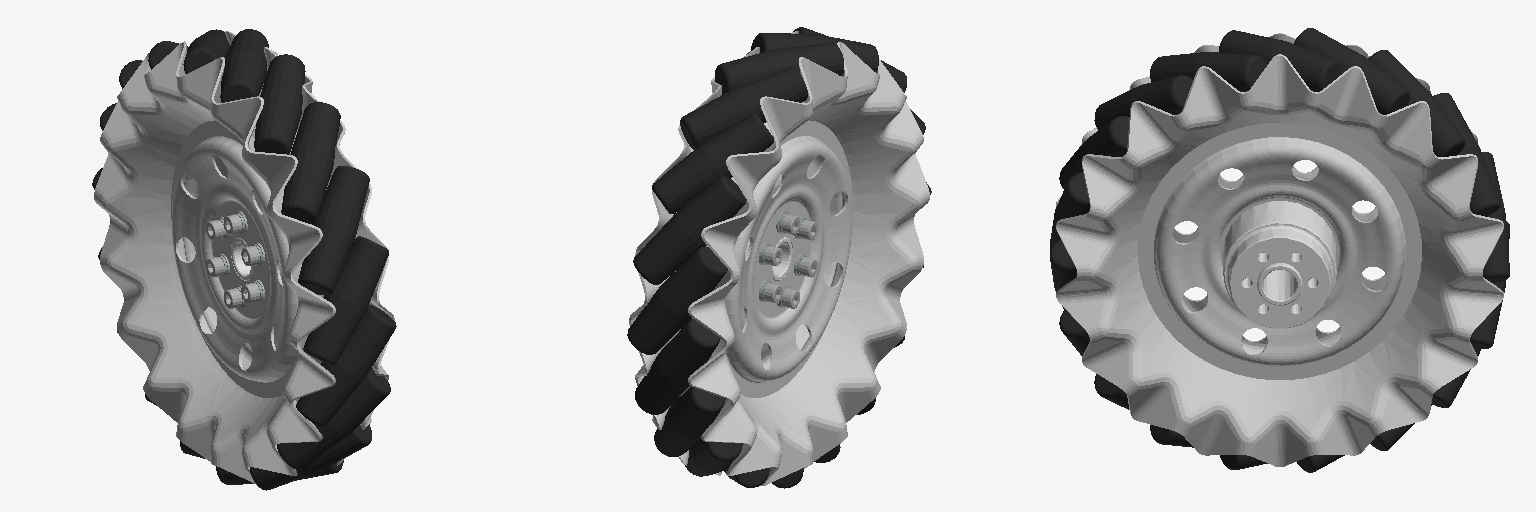
File: wheel_mecanumB.obj
3 renders of one model, left to right at view 1: azimuth 30°, elevation 25°; view 2: azimuth 150°, elevation 25°; view 3: azimuth 270°, elevation 25°, orthographic.
Parts seen in each view (by area): view 1: A003-0100-A-ADNA-R03_URDF_MecanumWheelB; view 2: A003-0100-A-ADNA-R03_URDF_MecanumWheelB; view 3: A003-0100-A-ADNA-R03_URDF_MecanumWheelB.
Part boxes in pixels (x1,y1,x2,y2): A003-0100-A-ADNA-R03_URDF_MecanumWheelB: (92,29,396,490); A003-0100-A-ADNA-R03_URDF_MecanumWheelB: (627,27,931,488); A003-0100-A-ADNA-R03_URDF_MecanumWheelB: (1050,28,1509,472).
Bounding box in the file's own units: 61.68 × 202 × 203.